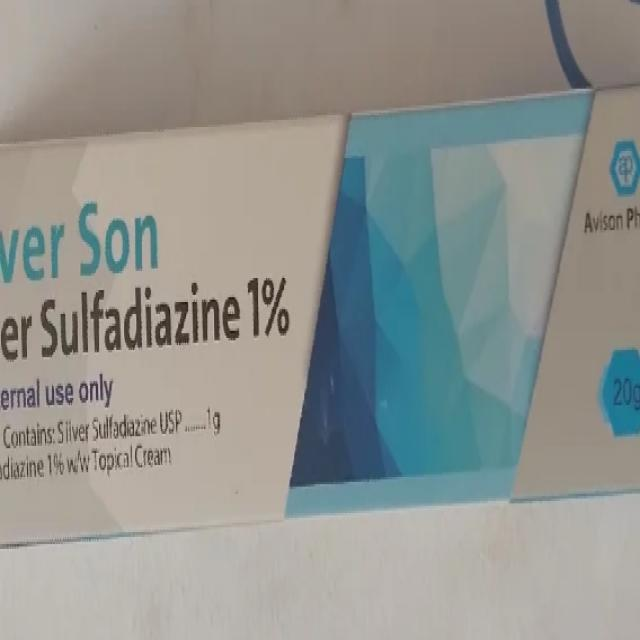drug-name: (0, 199, 163, 286)
